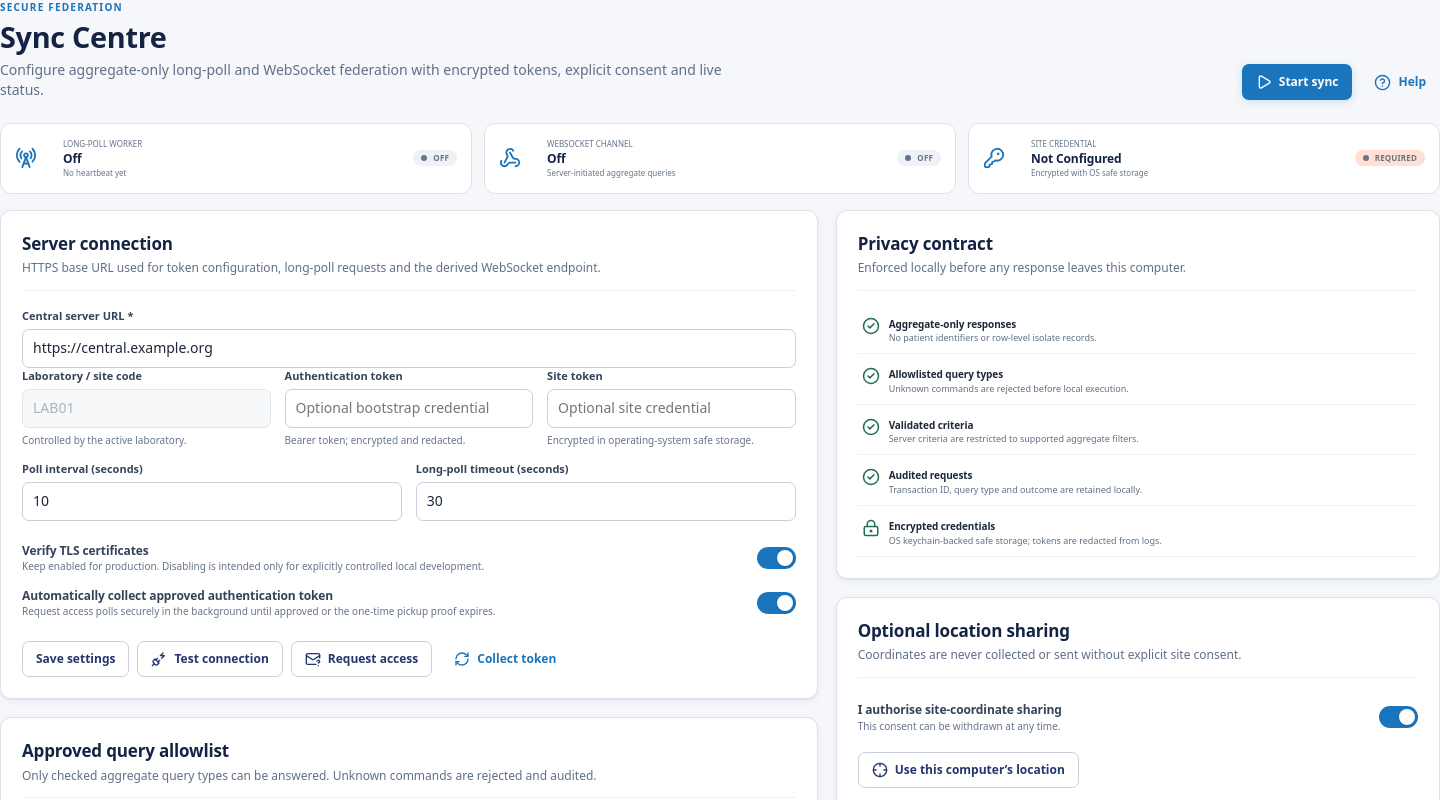
Test case: SyncPage location › fills both coordinates from this computer and says where they came from
Click the button "Use this computer’s location": coordinates (968, 770) [858,752,1079,788]
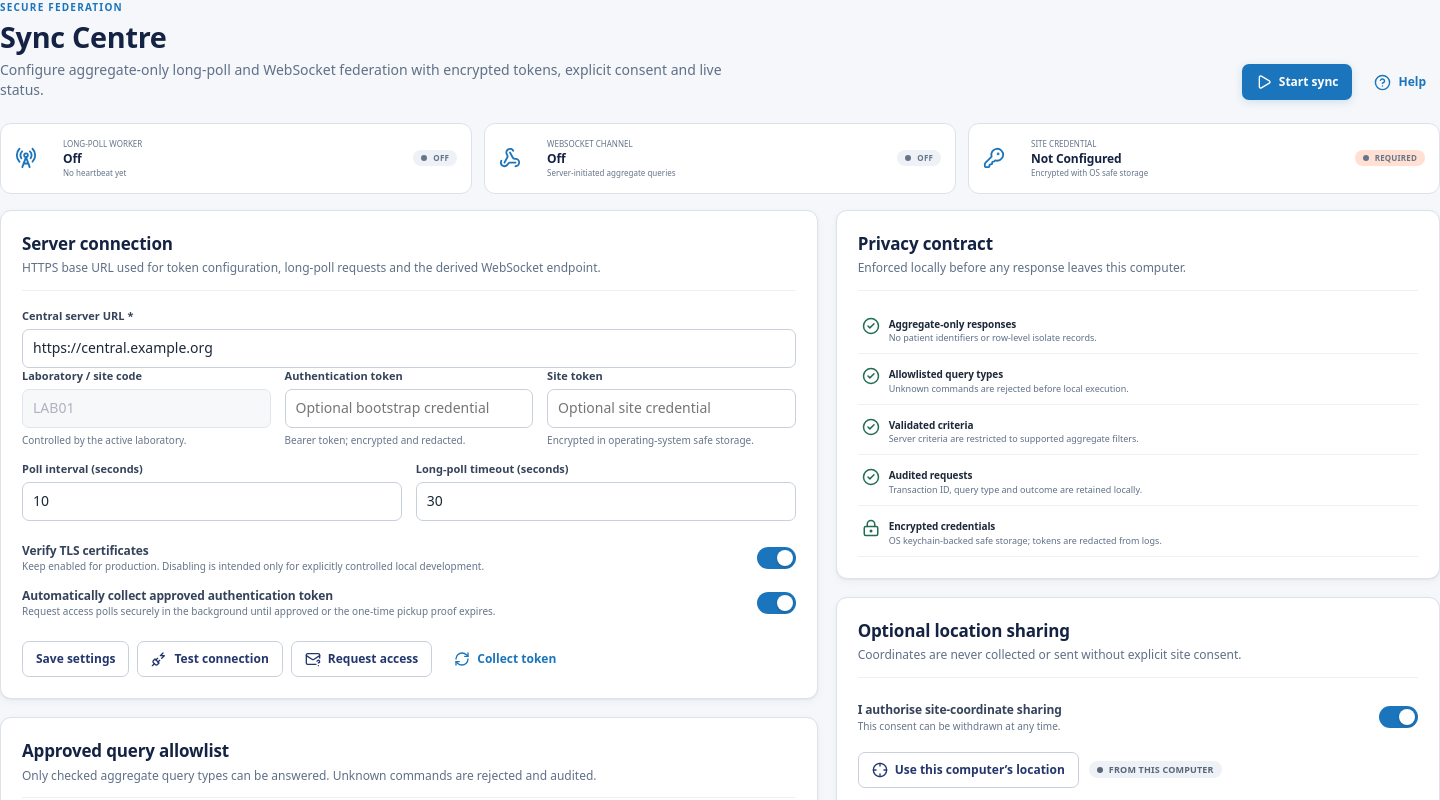
Result: the text "From this computer" is shown at [1089,761,1222,778]
